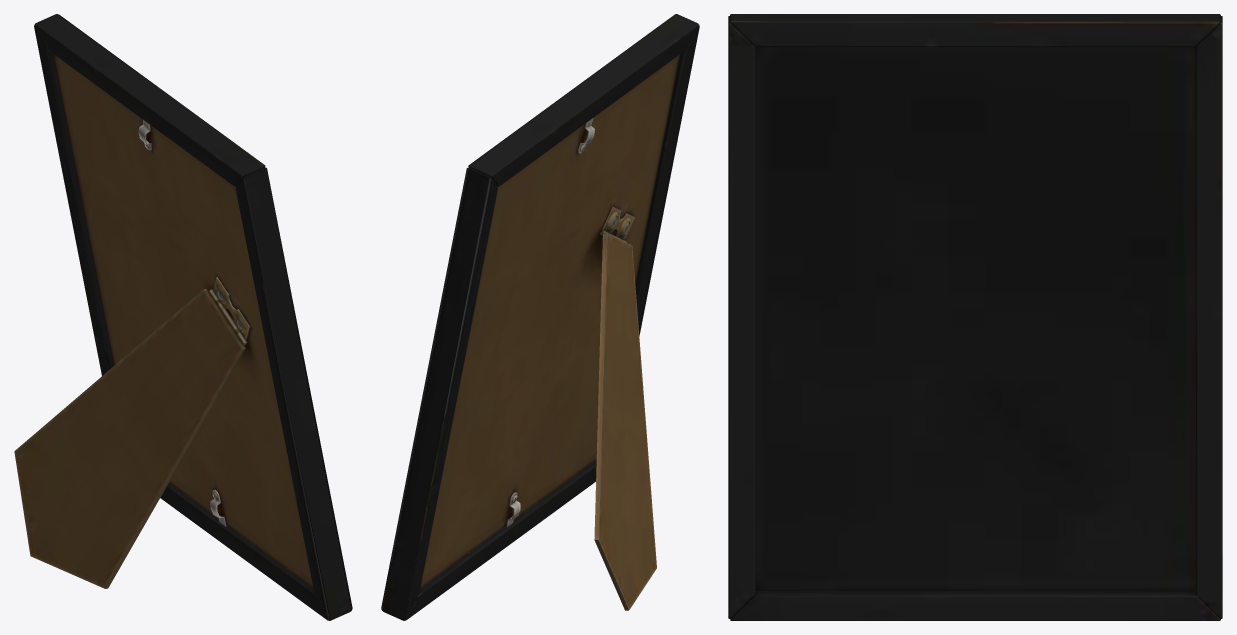
Rendered from standing_picture_frame_01.glb.
3 renders of one model, left to right at view 1: azimuth 30°, elevation 25°; view 2: azimuth 150°, elevation 25°; view 3: azimuth 270°, elevation 25°, orthographic. The views are drawn at different scales.
Parts seen in each view (by area): view 1: standing_picture_frame_01; view 2: standing_picture_frame_01; view 3: standing_picture_frame_01.
Part boxes in pixels (x1,y1,x2,y2): standing_picture_frame_01: [14, 14, 352, 620]; standing_picture_frame_01: [381, 14, 699, 620]; standing_picture_frame_01: [728, 14, 1222, 620].
Bounding box in the file's own units: 0.1003 × 0.2497 × 0.2008.
3 materials, 3 textured.
